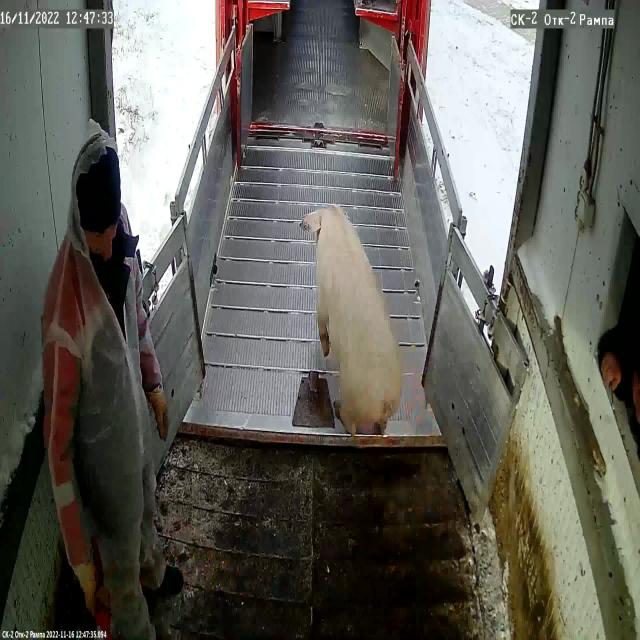pig: (300, 206, 404, 440)
